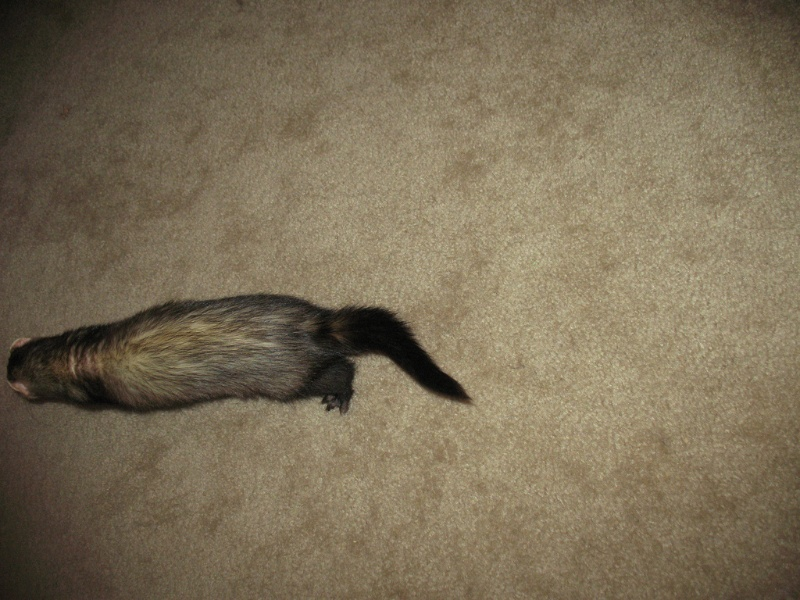minkish: (1, 294, 479, 423)
